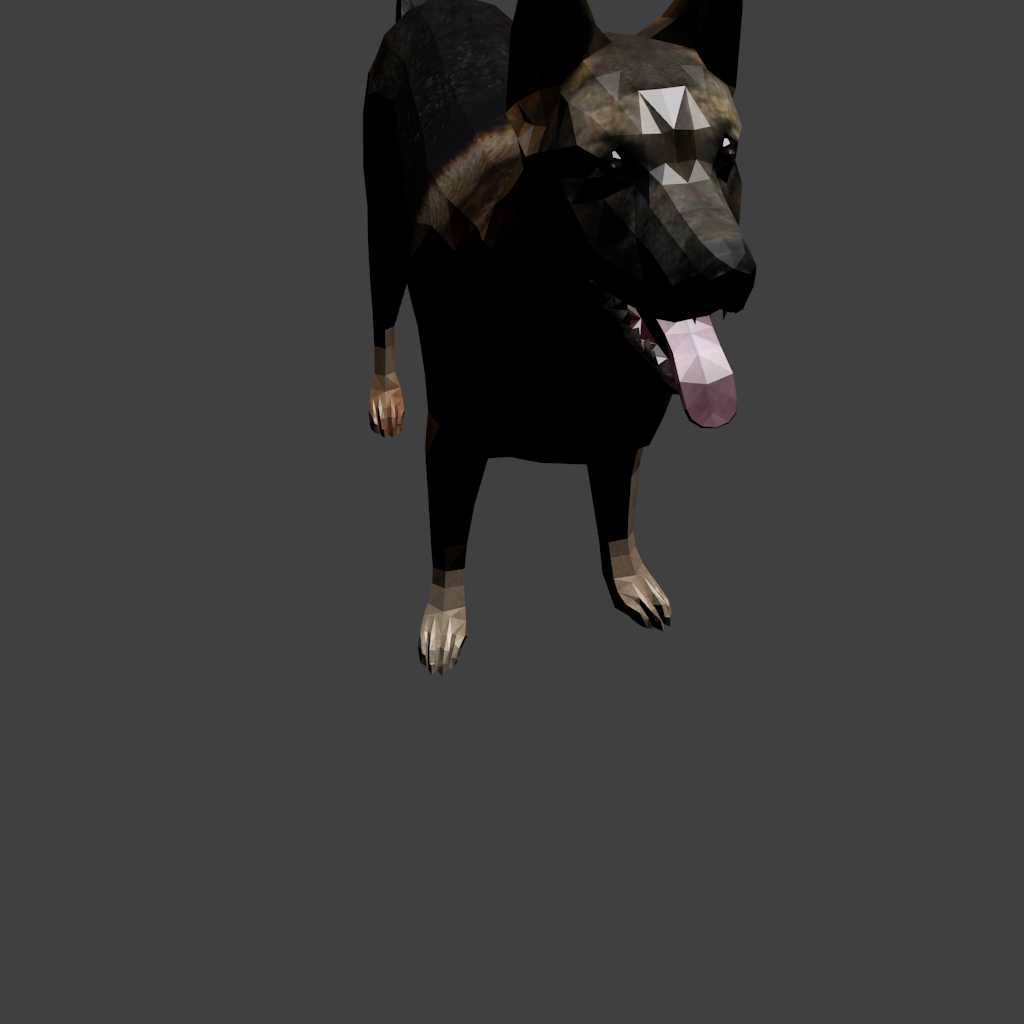Dog: (363, 0, 394, 676)
